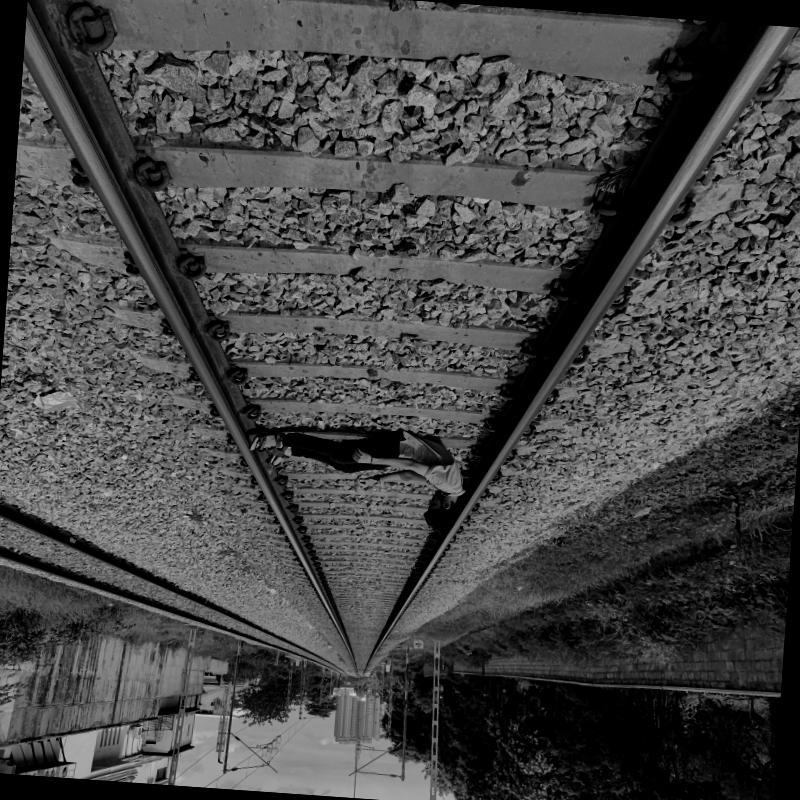sleeping: (238, 419, 478, 534)
